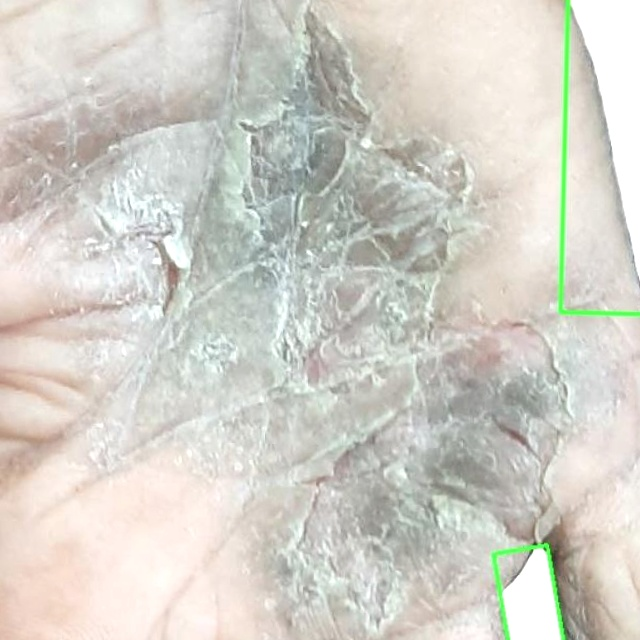Contact Dermatitis: (560, 0, 639, 315), (493, 545, 563, 639)
